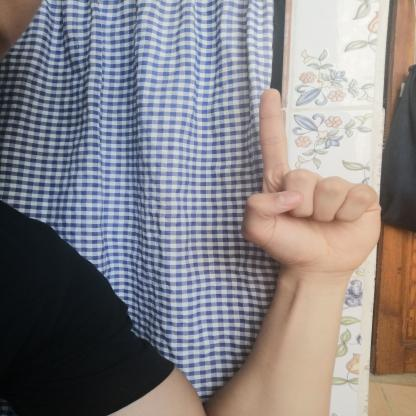BAA: (222, 79, 396, 281)
